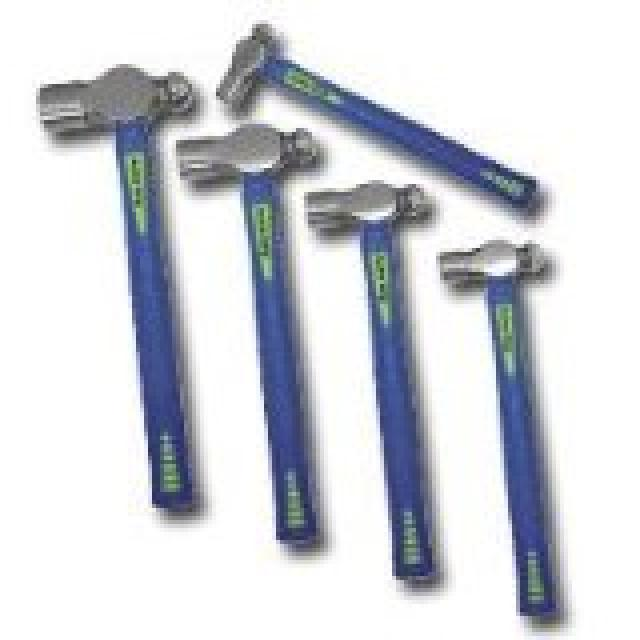hammer: (34, 62, 215, 519), (182, 120, 330, 567), (220, 23, 570, 209), (300, 180, 436, 592), (434, 233, 564, 623)
